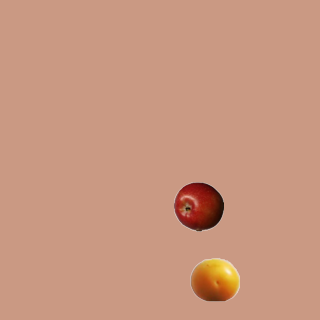Apple Braeburn: (173, 181, 223, 231)
Cherry Wax Yellow: (189, 254, 239, 304)
